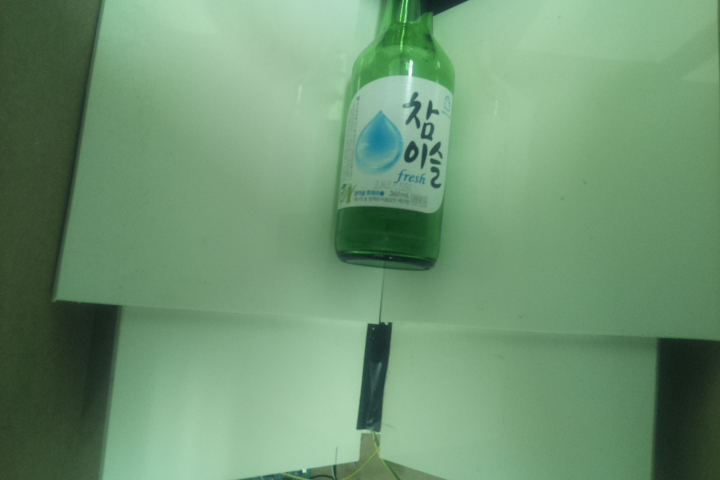soju: (332, 1, 456, 272)
